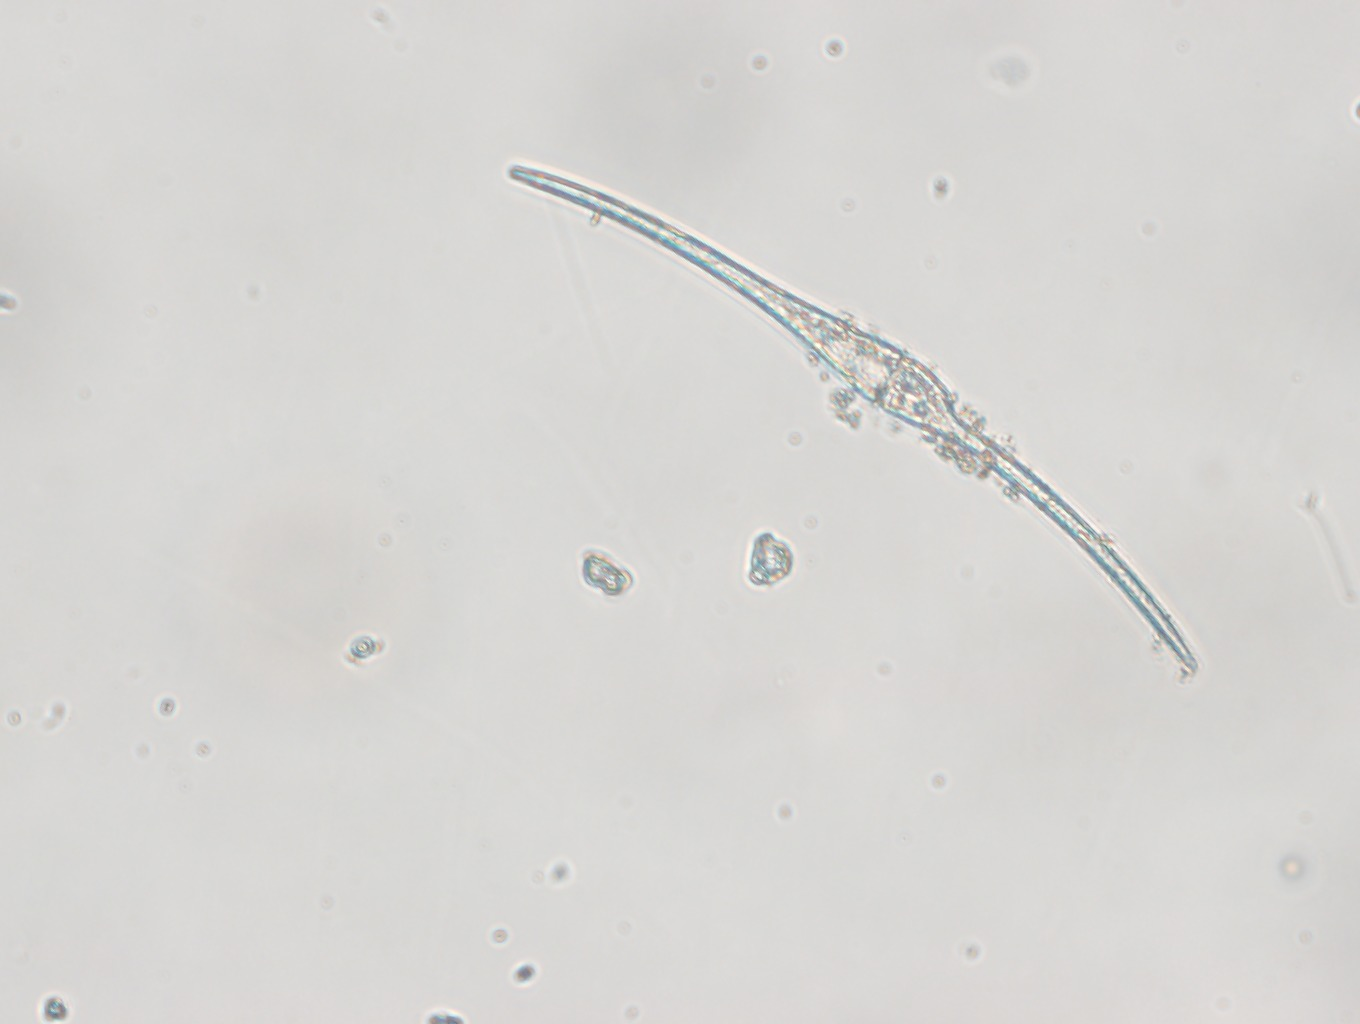ceratium fusus: (509, 150, 1205, 675)
